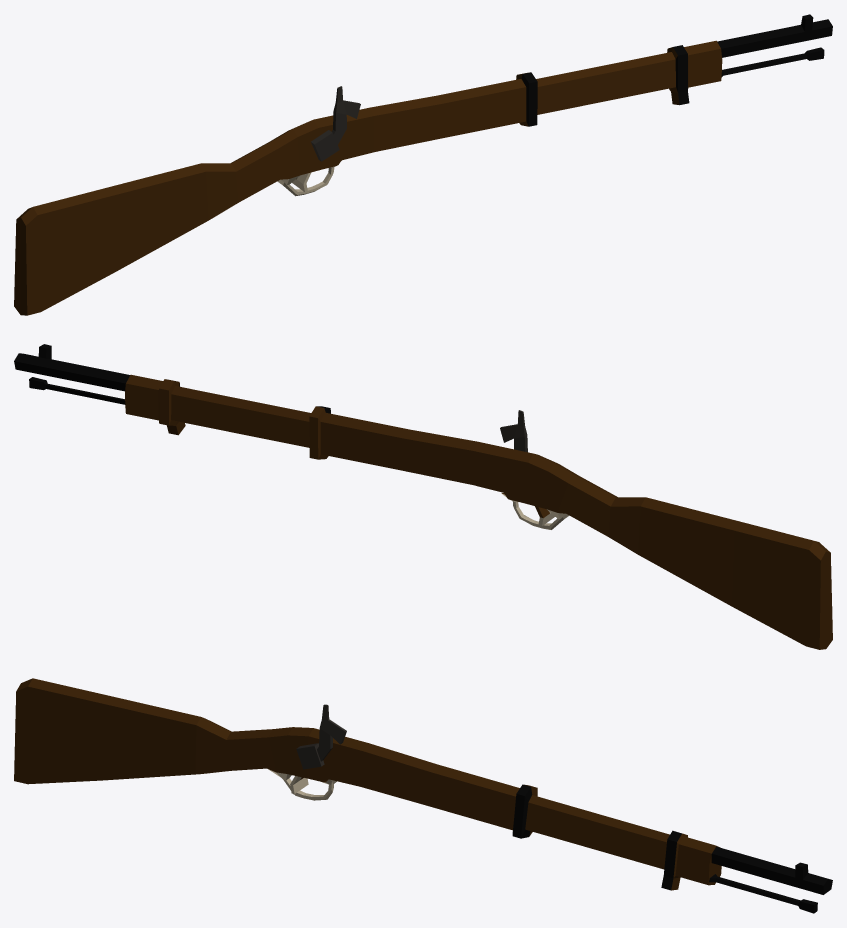
Rendered from ranged level-3 weapon.fbx.
3 renders of one model, top to bottom at view 1: azimuth 30°, elevation 25°; view 2: azimuth 150°, elevation 25°; view 3: azimuth 330°, elevation 25°, orthographic.
Parts seen in each view (by area): view 1: Cube.002; view 2: Cube.002; view 3: Cube.002.
Boxes of the visible parts, x1,y1,x2,y2 form: Cube.002: [14, 14, 832, 315]; Cube.002: [14, 344, 832, 649]; Cube.002: [14, 678, 832, 913].
Size of the model in its own units: 472 by 87.79 by 17.4.
